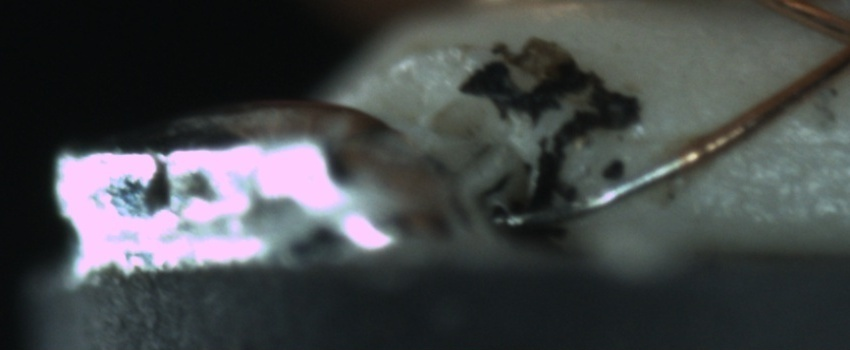DL: (759, 109, 850, 171)
TS: (515, 152, 685, 231)
